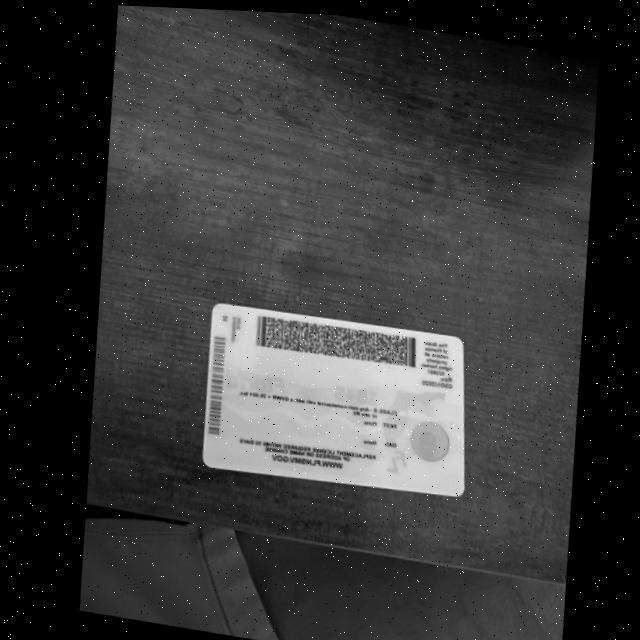card: (202, 304, 464, 496)
